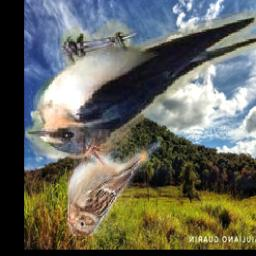Sparrow: (67, 130, 170, 237)
Swallow: (24, 11, 256, 159)
